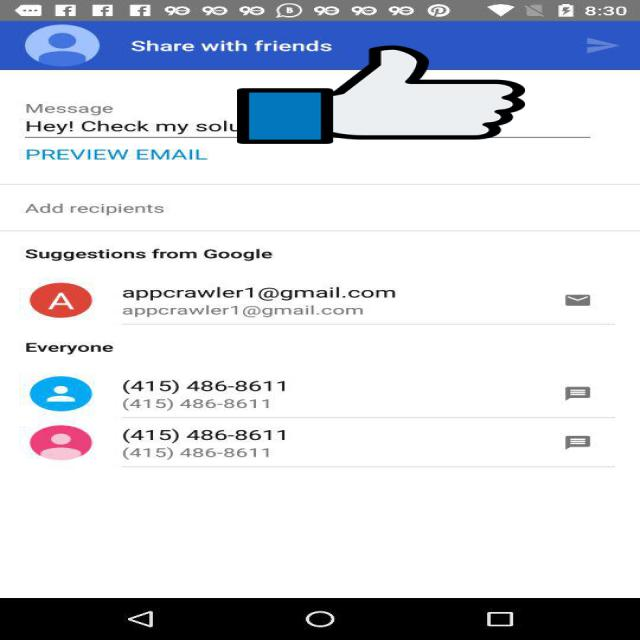privacy zuckering: (237, 43, 525, 146)
